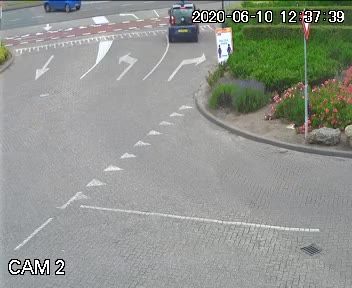car: (162, 4, 203, 50), (39, 0, 86, 17)
